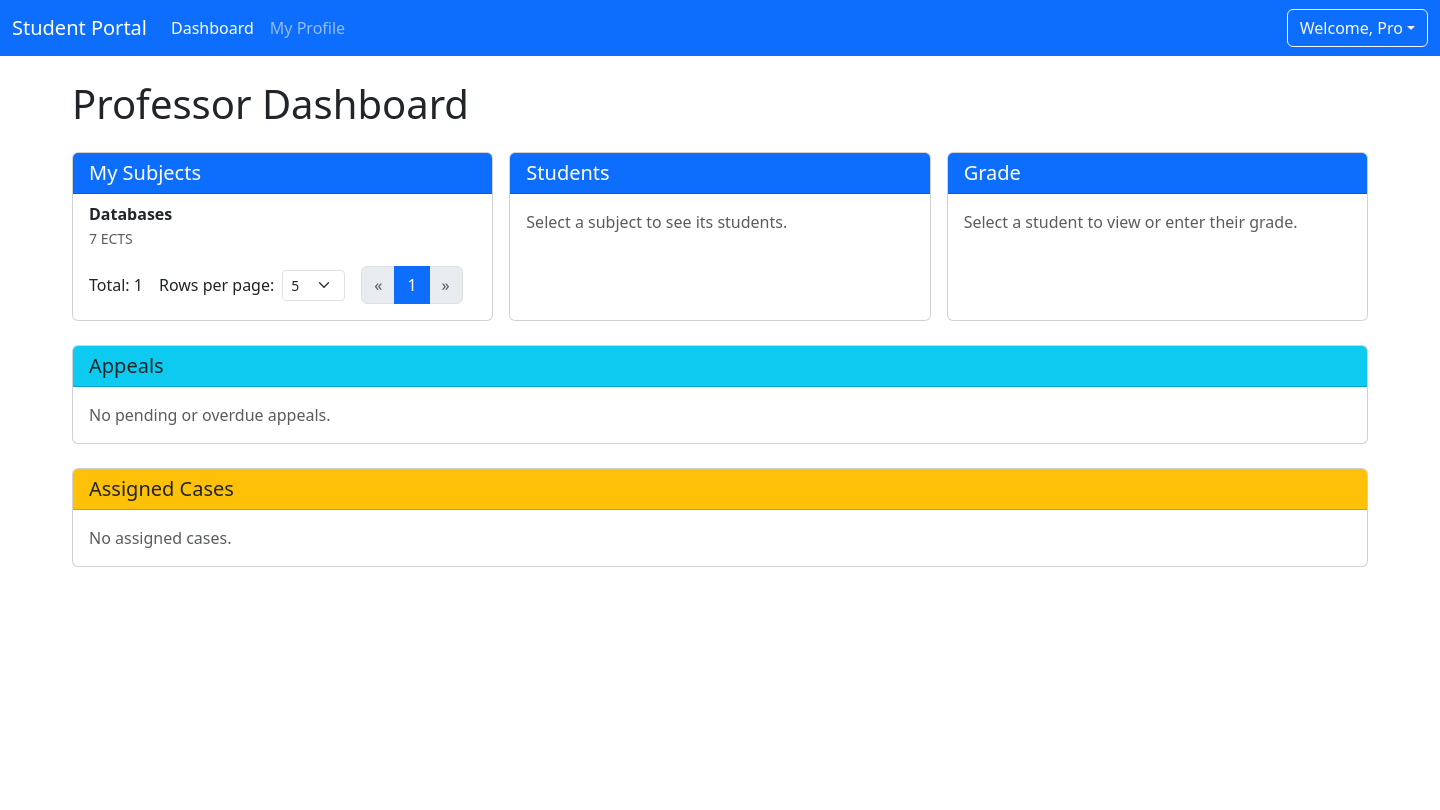
Test: ProfessorDashboardPage UI binding (§5.4) › selecting a subject shows that subject's students (binding only, no computation)
The image size is (1440, 810).
Click the text "Databases". click: (131, 214)
box: [89,203,172,225]
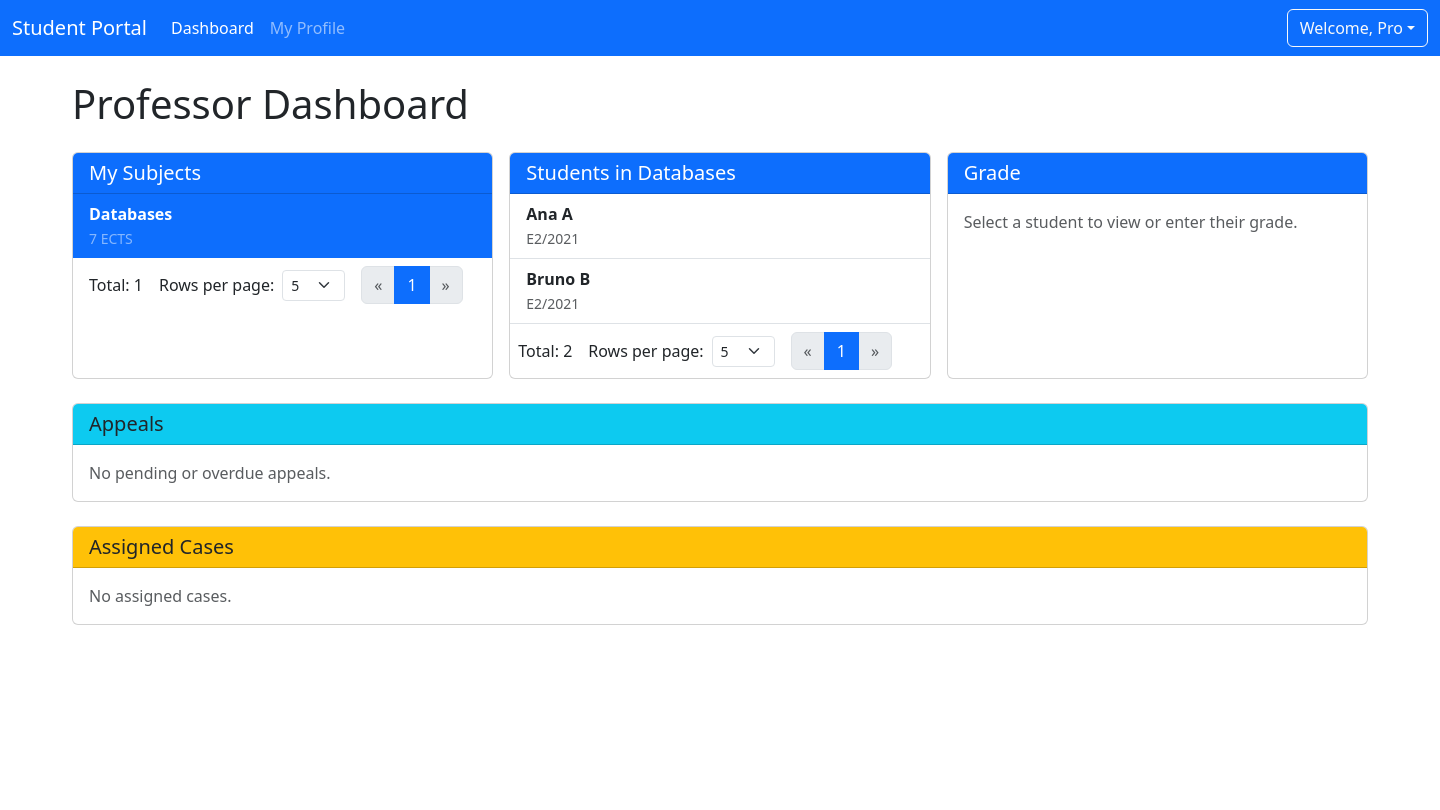
Check: the text "Ana A" is shown, box [526,203,573,225]
Check: the text "Bruno B" is shown, box [526,268,590,290]
